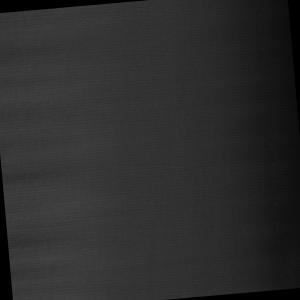Wrinkle: (1, 25, 141, 300), (186, 12, 300, 296)
